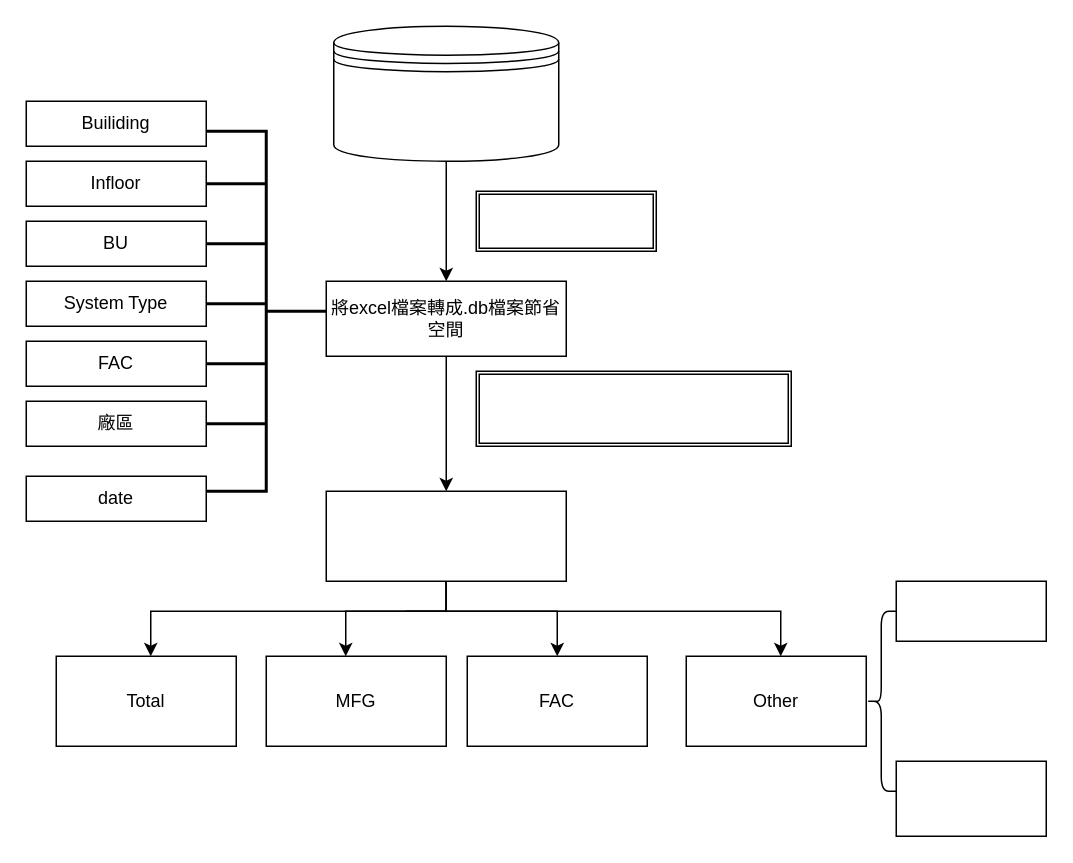
Some shapes in this 1073 by 863 pixel diagram are drawn without their labels. Each missing label, with the centre of its shape:
"save to SQLite" goes at (x=565, y=220).
"先進封裝" goes at (x=970, y=610).
"數據篩選(排除K18、K3B、K12B、K6C、K27II、K61、K71)" goes at (x=633, y=408).
"既有廠分別(Goal、Act)" goes at (x=445, y=535).
"歷年 data base" goes at (x=445, y=93).
"高階封裝" goes at (x=970, y=798).
